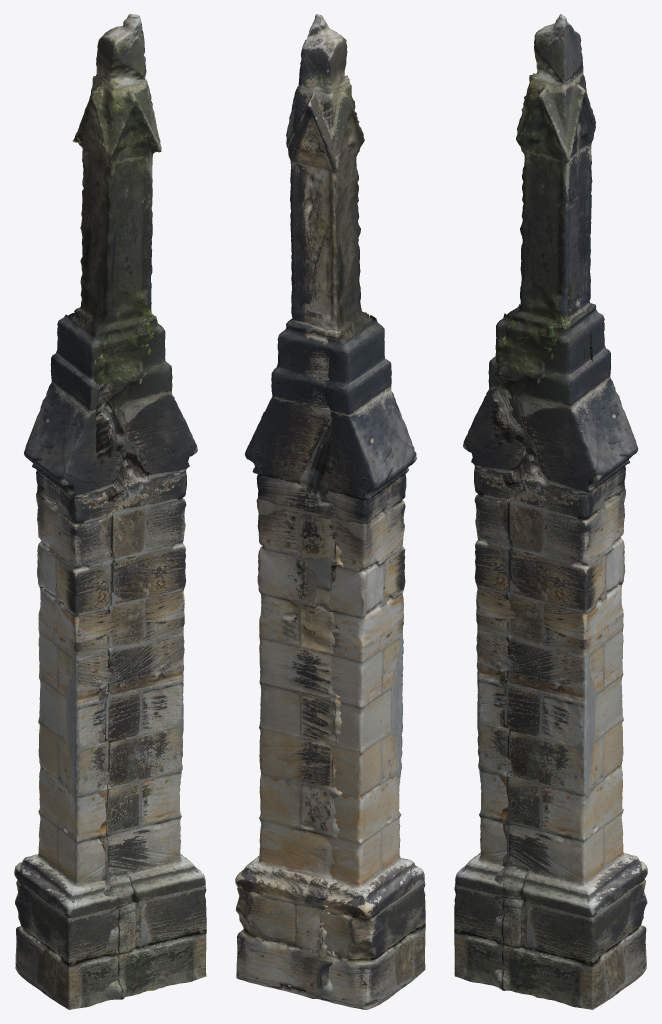
File: sm_Chapel_01_06.fbx
3 renders of one model, left to right at view 1: azimuth 30°, elevation 25°; view 2: azimuth 150°, elevation 25°; view 3: azimuth 330°, elevation 25°, orthographic.
Visible parts, largest first — view 1: sm_Chapel_01_06_LOD0; view 2: sm_Chapel_01_06_LOD0; view 3: sm_Chapel_01_06_LOD0.
Boxes of the visible parts, x1,y1,x2,y2 form: sm_Chapel_01_06_LOD0: (14, 14, 206, 1009); sm_Chapel_01_06_LOD0: (235, 14, 425, 1009); sm_Chapel_01_06_LOD0: (454, 14, 647, 1009).
Bounding box in the file's own units: 85.59 × 65.9 × 553.
